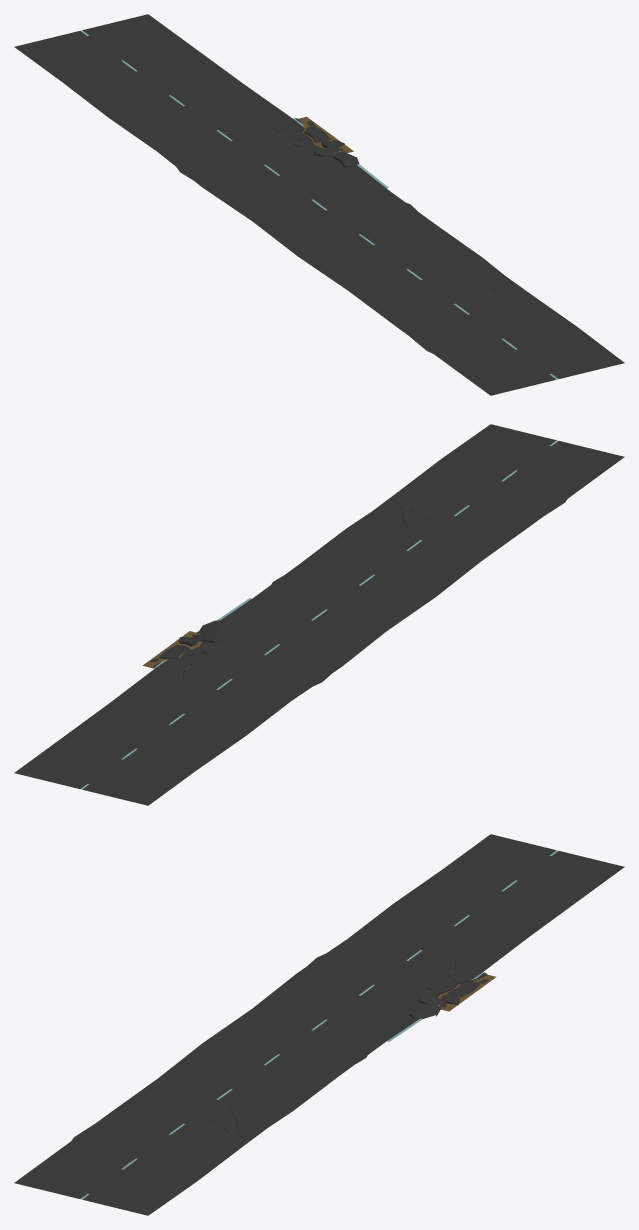
File: model_road_straight_2_.fbx
The picture shows the model from 3 angles, top to bottom: view 1: azimuth 30°, elevation 25°; view 2: azimuth 150°, elevation 25°; view 3: azimuth 330°, elevation 25°; orthographic projection.
Parts seen in each view (by area): view 1: model_road_dirt_straight_02.001; view 2: model_road_dirt_straight_02.001; view 3: model_road_dirt_straight_02.001.
Part boxes in pixels (x1,y1,x2,y2): model_road_dirt_straight_02.001: (14,14,624,395); model_road_dirt_straight_02.001: (14,424,624,805); model_road_dirt_straight_02.001: (14,834,624,1215).
Bounding box in the file's own units: 0.1146 × 0.6161 × 0.00288.
